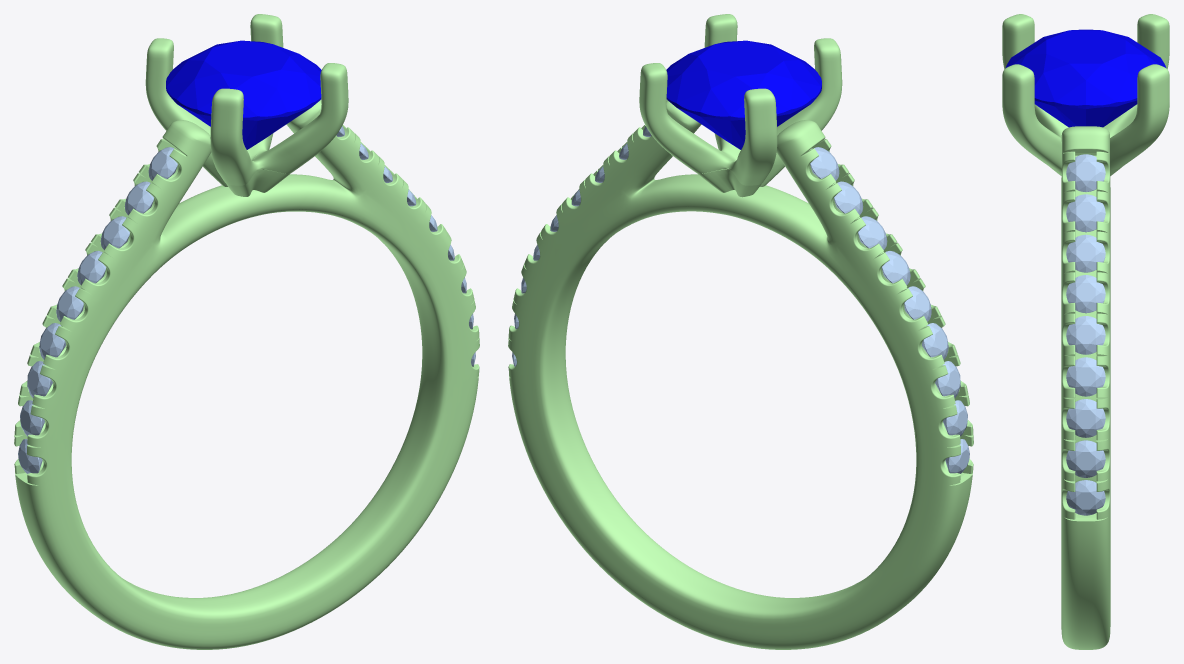
The picture shows the model from 3 angles, left to right: view 1: azimuth 30°, elevation 25°; view 2: azimuth 150°, elevation 25°; view 3: azimuth 270°, elevation 25°; orthographic projection.
Visible parts, largest first — view 1: RC_RD_138 render.3dm, Diamond_Round (×6); view 2: RC_RD_138 render.3dm, Diamond_Round (×5); view 3: RC_RD_138 render.3dm, Diamond_Round (×10).
Part boxes in pixels (left/top/right/bottom): RC_RD_138 render.3dm: left=14, top=14, right=479, bottom=649; Diamond_Round (×6): left=56, top=40, right=321, bottom=321; RC_RD_138 render.3dm: left=508, top=14, right=973, bottom=649; Diamond_Round (×5): left=666, top=40, right=931, bottom=321; RC_RD_138 render.3dm: left=1002, top=14, right=1169, bottom=649; Diamond_Round (×10): left=1005, top=29, right=1166, bottom=515.
Bounding box in the file's own units: 2.46 × 3.05 × 0.7938.
